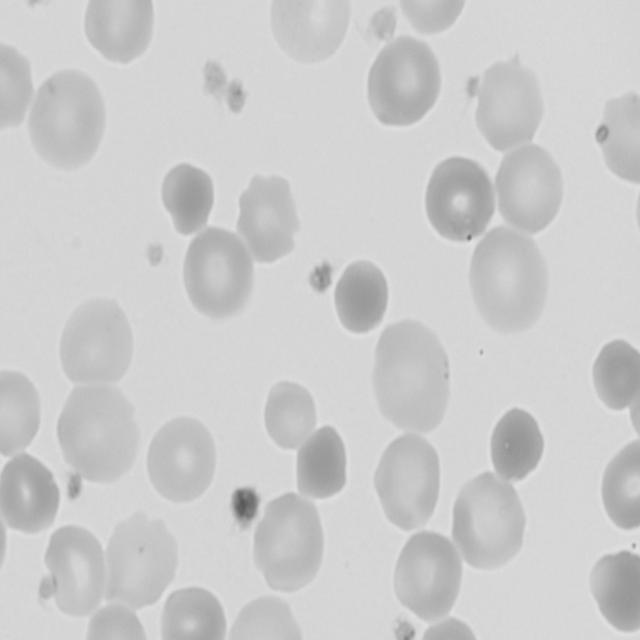Platelets: (230, 482, 262, 528), (310, 256, 336, 293), (63, 464, 86, 500)
RBC: (371, 314, 454, 436), (468, 226, 550, 338), (56, 380, 142, 486), (30, 61, 110, 173), (248, 490, 328, 596), (449, 470, 529, 574), (490, 140, 568, 240), (60, 296, 138, 396), (103, 506, 180, 607), (391, 526, 466, 628), (180, 225, 258, 322), (472, 57, 548, 156), (370, 431, 443, 534), (367, 37, 445, 133), (143, 409, 216, 509), (423, 150, 498, 243), (38, 522, 108, 617), (264, 0, 356, 69), (238, 171, 299, 265), (80, 0, 159, 69), (0, 453, 59, 540), (589, 544, 640, 638), (156, 160, 216, 236), (594, 92, 640, 190), (260, 381, 317, 460), (594, 436, 640, 530), (292, 428, 351, 501), (156, 584, 229, 640), (0, 371, 46, 459), (222, 594, 302, 640), (0, 41, 35, 136), (390, 0, 470, 38), (83, 604, 150, 640), (418, 616, 484, 640), (631, 162, 640, 267)
Spherocyte: (332, 251, 393, 336), (487, 407, 546, 484), (591, 340, 640, 410)
